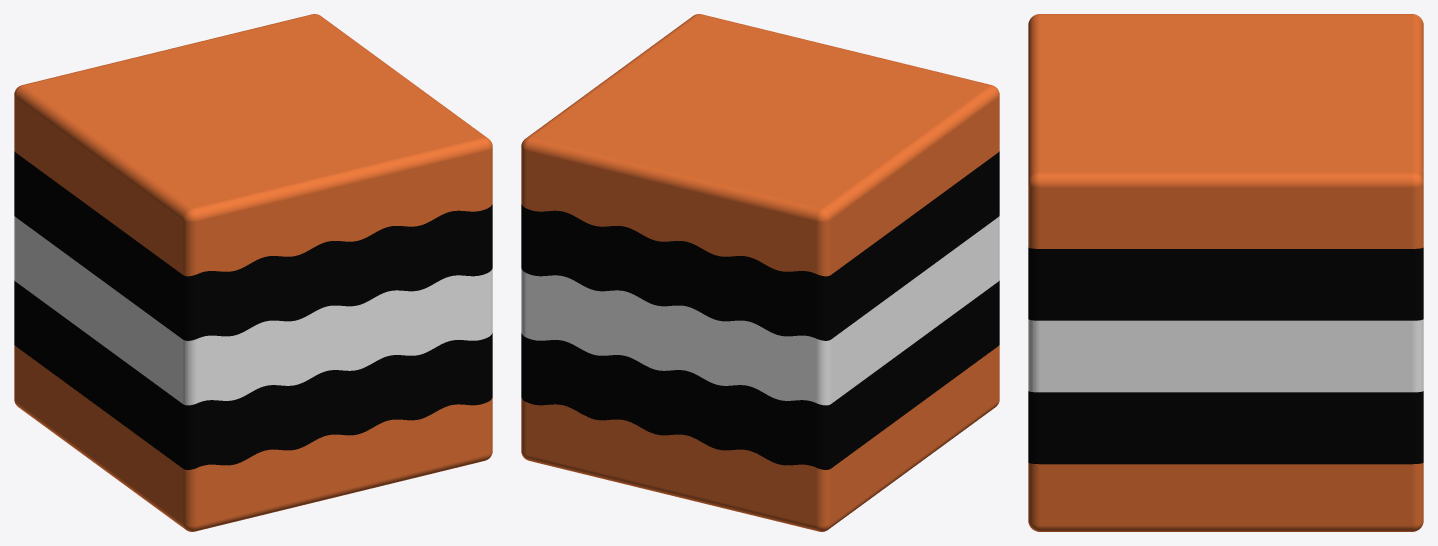
The model's file is liquorice_allsort_box_and_lid_100_v7_orange.glb.
The picture shows the model from 3 angles, left to right: view 1: azimuth 30°, elevation 25°; view 2: azimuth 150°, elevation 25°; view 3: azimuth 270°, elevation 25°; orthographic projection. The views are drawn at different scales.
Visible parts, largest first — view 1: liquorice_allsort_box_and_lid_100_v7_5, liquorice_allsort_box_and_lid_100_v7_4, liquorice_allsort_box_and_lid_100_v7_2, liquorice_allsort_box_and_lid_100_v7_3, liquorice_allsort_box_and_lid_100_v7_1; view 2: liquorice_allsort_box_and_lid_100_v7_5, liquorice_allsort_box_and_lid_100_v7_4, liquorice_allsort_box_and_lid_100_v7_2, liquorice_allsort_box_and_lid_100_v7_3, liquorice_allsort_box_and_lid_100_v7_1; view 3: liquorice_allsort_box_and_lid_100_v7_5, liquorice_allsort_box_and_lid_100_v7_3, liquorice_allsort_box_and_lid_100_v7_2, liquorice_allsort_box_and_lid_100_v7_4, liquorice_allsort_box_and_lid_100_v7_1.
Part boxes in pixels (x1=…): liquorice_allsort_box_and_lid_100_v7_5: x1=14, y1=14, x2=492, y2=276; liquorice_allsort_box_and_lid_100_v7_4: x1=14, y1=151, x2=492, y2=340; liquorice_allsort_box_and_lid_100_v7_2: x1=14, y1=280, x2=492, y2=469; liquorice_allsort_box_and_lid_100_v7_3: x1=14, y1=216, x2=492, y2=405; liquorice_allsort_box_and_lid_100_v7_1: x1=14, y1=345, x2=492, y2=531; liquorice_allsort_box_and_lid_100_v7_5: x1=521, y1=14, x2=999, y2=276; liquorice_allsort_box_and_lid_100_v7_4: x1=521, y1=151, x2=999, y2=340; liquorice_allsort_box_and_lid_100_v7_2: x1=521, y1=280, x2=999, y2=469; liquorice_allsort_box_and_lid_100_v7_3: x1=521, y1=216, x2=999, y2=405; liquorice_allsort_box_and_lid_100_v7_1: x1=521, y1=345, x2=999, y2=531; liquorice_allsort_box_and_lid_100_v7_5: x1=1028, y1=14, x2=1423, y2=248; liquorice_allsort_box_and_lid_100_v7_3: x1=1028, y1=319, x2=1423, y2=392; liquorice_allsort_box_and_lid_100_v7_2: x1=1028, y1=391, x2=1423, y2=464; liquorice_allsort_box_and_lid_100_v7_4: x1=1028, y1=247, x2=1423, y2=320; liquorice_allsort_box_and_lid_100_v7_1: x1=1028, y1=463, x2=1423, y2=531.
Size of the model in its own units: 10 by 10 by 10.
